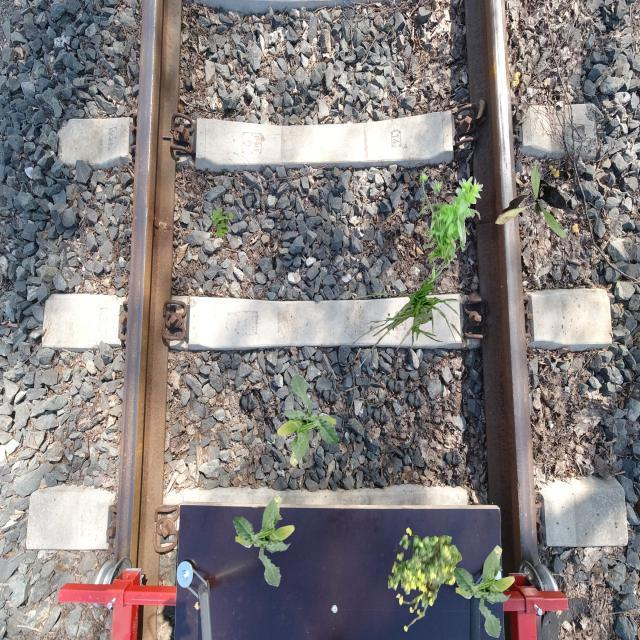Plant: (351, 246, 469, 368), (388, 527, 463, 632), (419, 171, 484, 278), (233, 494, 296, 588), (277, 374, 340, 468), (453, 545, 516, 638), (495, 164, 566, 238), (210, 207, 234, 238)
